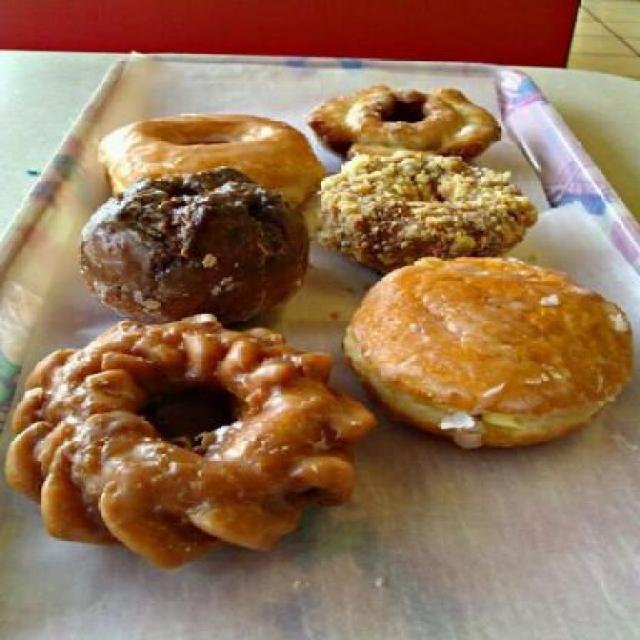Donuts: (3, 82, 639, 574)
